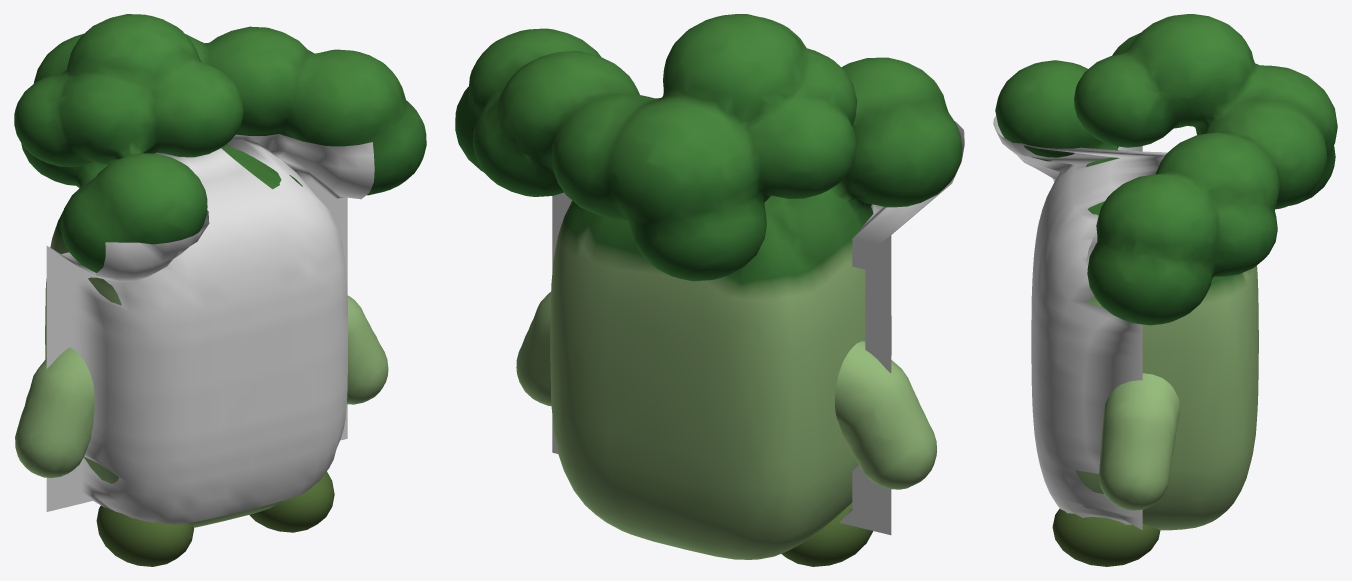
File: folk2_sprout_lod1.glb
3 renders of one model, left to right at view 1: azimuth 30°, elevation 25°; view 2: azimuth 150°, elevation 25°; view 3: azimuth 270°, elevation 25°, orthographic. The views are drawn at different scales.
Parts seen in each view (by area): view 1: sprout_face, sprout_body, sprout_arm_l, sprout_foot_l, sprout_arm_r, sprout_foot_r; view 2: sprout_body, sprout_arm_l, sprout_face, sprout_arm_r, sprout_foot_l; view 3: sprout_body, sprout_face, sprout_arm_r, sprout_foot_r.
Part boxes in pixels (x1,y1,x2,y2): sprout_face: (46,134,374,524); sprout_body: (14,14,426,527); sprout_arm_l: (15,347,94,478); sprout_foot_l: (96,505,193,566); sprout_arm_r: (346,295,388,404); sprout_foot_r: (249,471,334,532); sprout_body: (455,14,962,559); sprout_arm_l: (835,341,936,489); sprout_face: (552,121,964,535); sprout_arm_r: (516,292,551,406); sprout_foot_l: (781,502,873,566); sprout_body: (995,14,1337,530); sprout_face: (993,115,1167,530); sprout_arm_r: (1098,373,1180,510); sprout_foot_r: (1052,508,1160,566).
Bounding box in the file's own units: 0.4404 × 0.518 × 0.3308.
